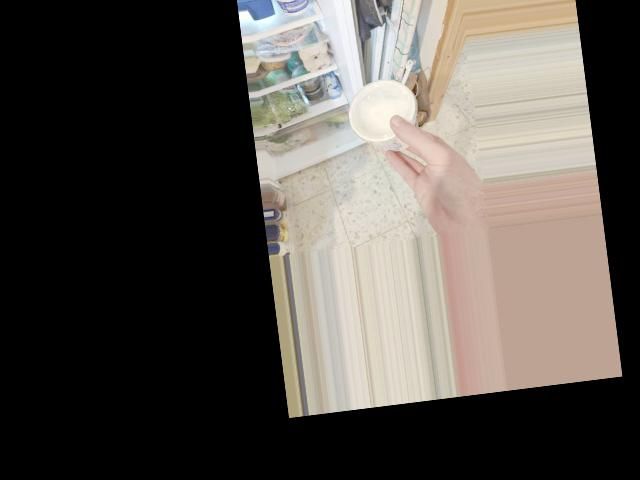cotage: (347, 67, 424, 160)
